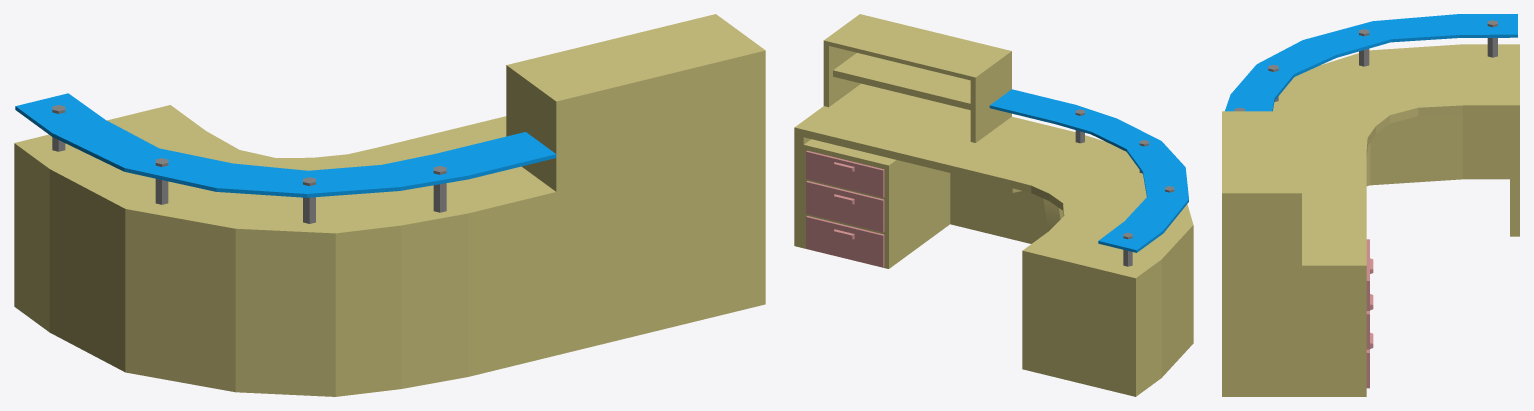
The model's file is DeskBank_01.fbx.
The picture shows the model from 3 angles, left to right: view 1: azimuth 30°, elevation 25°; view 2: azimuth 150°, elevation 25°; view 3: azimuth 270°, elevation 25°; orthographic projection. The views are drawn at different scales.
Parts seen in each view (by area): view 1: SM_Prop_Desk_01, SM_Prop_Desk_Glass_01; view 2: SM_Prop_Desk_01, SM_Prop_Desk_Glass_01; view 3: SM_Prop_Desk_01, SM_Prop_Desk_Glass_01.
Boxes of the visible parts, x1,y1,x2,y2 form: SM_Prop_Desk_01: [14, 14, 765, 396]; SM_Prop_Desk_Glass_01: [15, 93, 556, 197]; SM_Prop_Desk_01: [794, 14, 1193, 396]; SM_Prop_Desk_Glass_01: [989, 89, 1188, 252]; SM_Prop_Desk_01: [1222, 20, 1519, 396]; SM_Prop_Desk_Glass_01: [1225, 14, 1517, 111].
Bounding box in the file's own units: 3.14 × 1.35 × 1.78.
